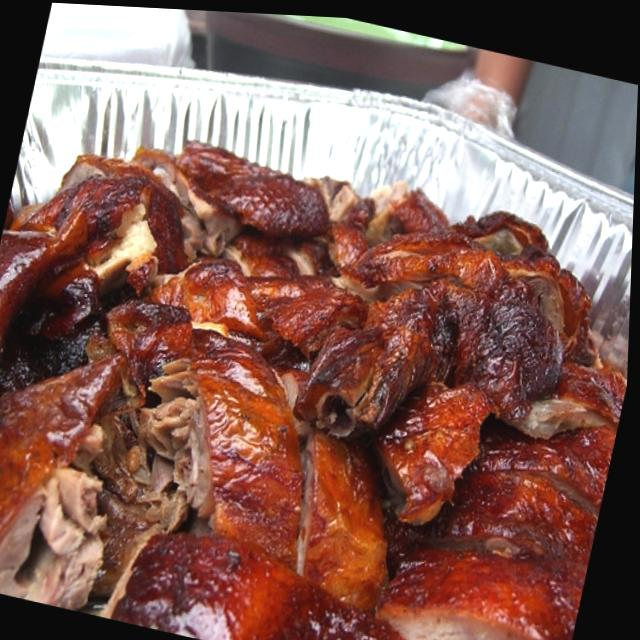烧串烤肉: (0, 93, 637, 640)
